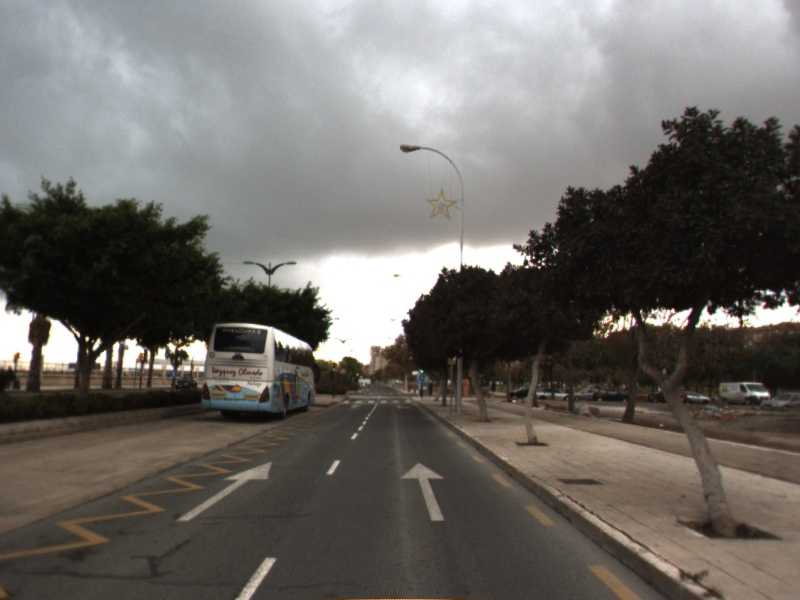STRAIGHT: (174, 459, 274, 523), (398, 460, 449, 523)
